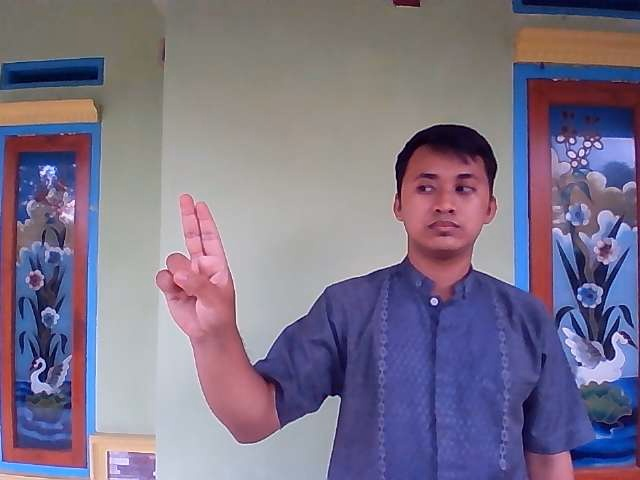U: (155, 191, 241, 347)
